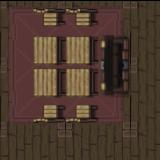Hide: (99, 31, 132, 98)
Obstacle: (30, 33, 66, 66), (30, 65, 66, 98), (66, 32, 100, 66), (66, 64, 100, 98), (64, 2, 100, 34), (30, 2, 65, 34), (66, 98, 100, 129), (31, 98, 66, 128)
